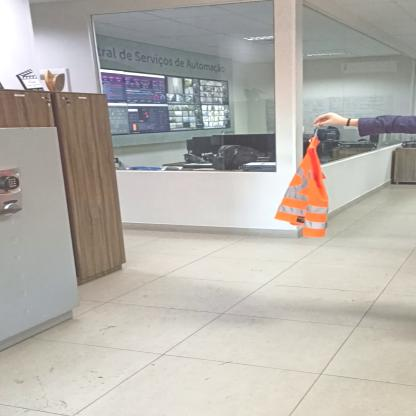colete: (273, 137, 337, 239)
